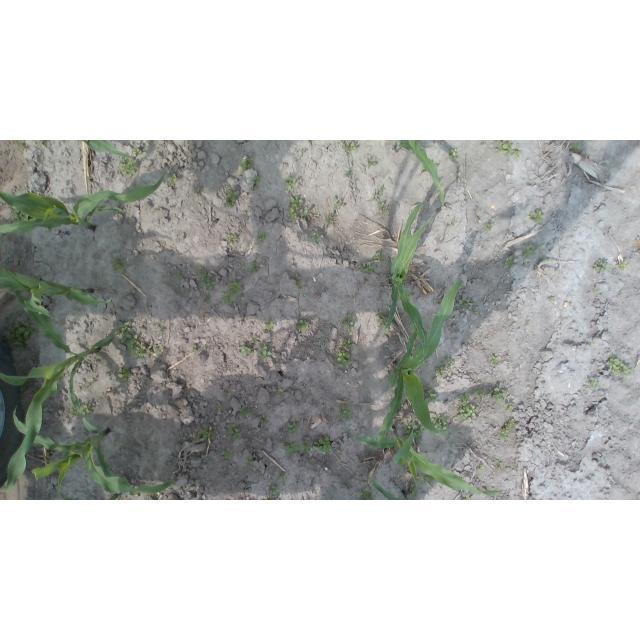Maize: (0, 289, 112, 491), (11, 406, 176, 499), (376, 282, 462, 447), (343, 422, 503, 500), (0, 171, 168, 235), (382, 202, 430, 362), (0, 267, 112, 320), (394, 141, 447, 208), (368, 476, 411, 501), (80, 140, 132, 160), (60, 492, 123, 500)
Weeds: (113, 322, 153, 359), (5, 320, 37, 348), (608, 355, 632, 378), (494, 141, 522, 160), (120, 156, 141, 177), (431, 412, 449, 436), (404, 422, 424, 442), (434, 356, 454, 376), (200, 268, 217, 289), (286, 197, 302, 219), (456, 405, 478, 420), (313, 436, 333, 452), (487, 388, 507, 404), (501, 419, 515, 440), (337, 349, 352, 368), (224, 188, 238, 208), (117, 367, 132, 385), (69, 404, 91, 416), (423, 387, 438, 404), (111, 259, 128, 274), (258, 342, 272, 359), (228, 279, 245, 293), (200, 427, 217, 441), (339, 406, 354, 421), (593, 260, 609, 274), (227, 424, 241, 440), (240, 157, 255, 171), (343, 316, 356, 332), (284, 176, 296, 193), (522, 245, 536, 259), (529, 209, 543, 223), (459, 297, 474, 310), (268, 485, 281, 500), (406, 483, 418, 499), (363, 262, 376, 276), (220, 292, 234, 305), (283, 443, 299, 454), (376, 312, 389, 325), (300, 440, 313, 453), (10, 205, 20, 221), (287, 422, 299, 435), (570, 140, 583, 152), (359, 489, 373, 500), (373, 187, 383, 202), (297, 319, 309, 331), (458, 393, 471, 404), (264, 318, 275, 330), (241, 344, 252, 356), (248, 263, 261, 273), (333, 197, 344, 208), (423, 474, 435, 484), (344, 143, 356, 153), (587, 377, 599, 387), (223, 448, 233, 460), (448, 148, 457, 161), (378, 203, 389, 213), (169, 174, 178, 186), (312, 233, 321, 245), (257, 233, 268, 242), (505, 256, 514, 267), (240, 407, 249, 418), (252, 176, 262, 185), (368, 158, 377, 168), (489, 356, 499, 365), (343, 338, 352, 348), (227, 235, 237, 244), (20, 211, 29, 221), (373, 252, 384, 260), (326, 213, 334, 224), (474, 388, 485, 396), (246, 456, 254, 467), (496, 460, 505, 469), (158, 323, 166, 333), (461, 493, 472, 500), (176, 272, 184, 281), (619, 261, 627, 270), (504, 404, 512, 413), (259, 416, 265, 428), (296, 279, 303, 289), (14, 140, 21, 148), (431, 160, 438, 168), (217, 404, 224, 412), (132, 147, 141, 153), (540, 257, 549, 263), (280, 476, 286, 485), (478, 465, 485, 472), (301, 210, 308, 217), (486, 224, 493, 231), (594, 289, 601, 296), (205, 295, 212, 301), (192, 190, 200, 195), (398, 403, 404, 409), (275, 389, 281, 395), (344, 172, 351, 177), (421, 166, 426, 173), (548, 297, 554, 302), (383, 326, 388, 332), (540, 244, 545, 250), (192, 345, 197, 351), (36, 141, 41, 147), (588, 341, 593, 346), (620, 291, 625, 296), (527, 320, 532, 324), (152, 208, 157, 212), (148, 497, 153, 500)
